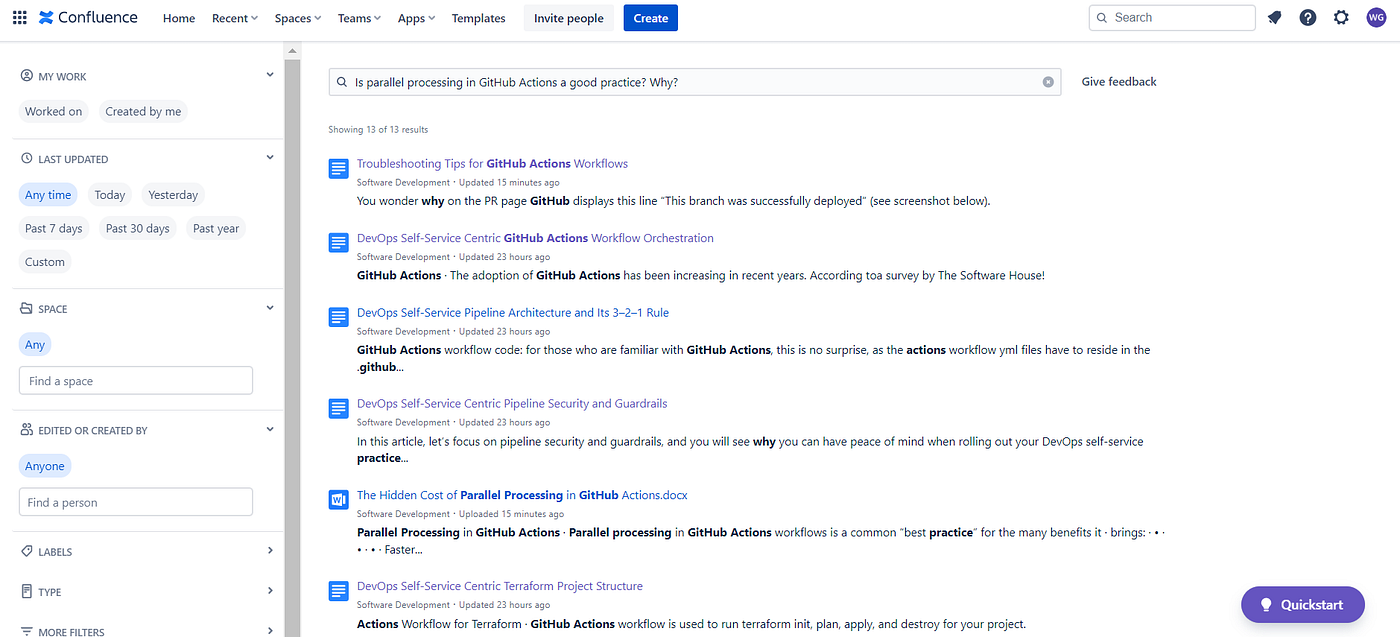button_create: (623, 2, 678, 32)
search_box: (1090, 5, 1260, 36)
